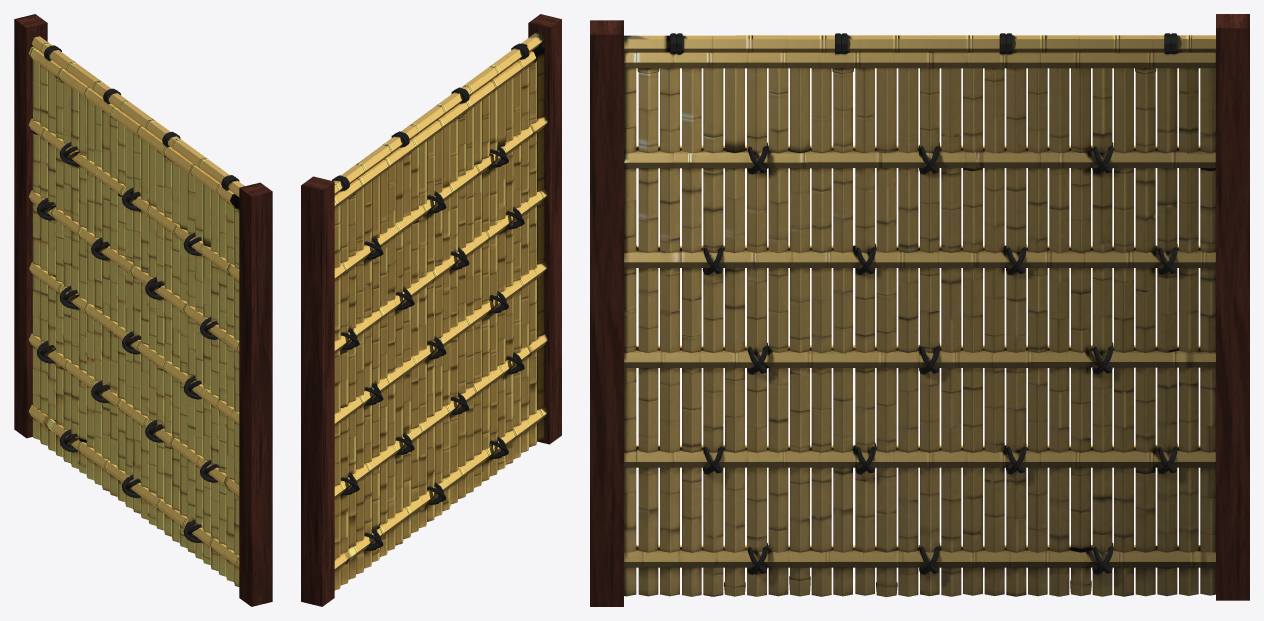
The model's file is Bamboo_Fence.fbx.
3 views of the same model, side by side, from view 1: azimuth 30°, elevation 25°; view 2: azimuth 150°, elevation 25°; view 3: azimuth 270°, elevation 25° (orthographic). The views are drawn at different scales.
Parts seen in each view (by area): view 1: bamboo fence 2.772; view 2: bamboo fence 2.772; view 3: bamboo fence 2.772.
Part boxes in pixels (bbox=[...]): bamboo fence 2.772: bbox=[14, 14, 272, 606]; bamboo fence 2.772: bbox=[301, 14, 561, 606]; bamboo fence 2.772: bbox=[590, 14, 1249, 606].
Size of the model in its own units: 127 by 1504 by 1555.
Materials: 4 (4 with a texture image).
